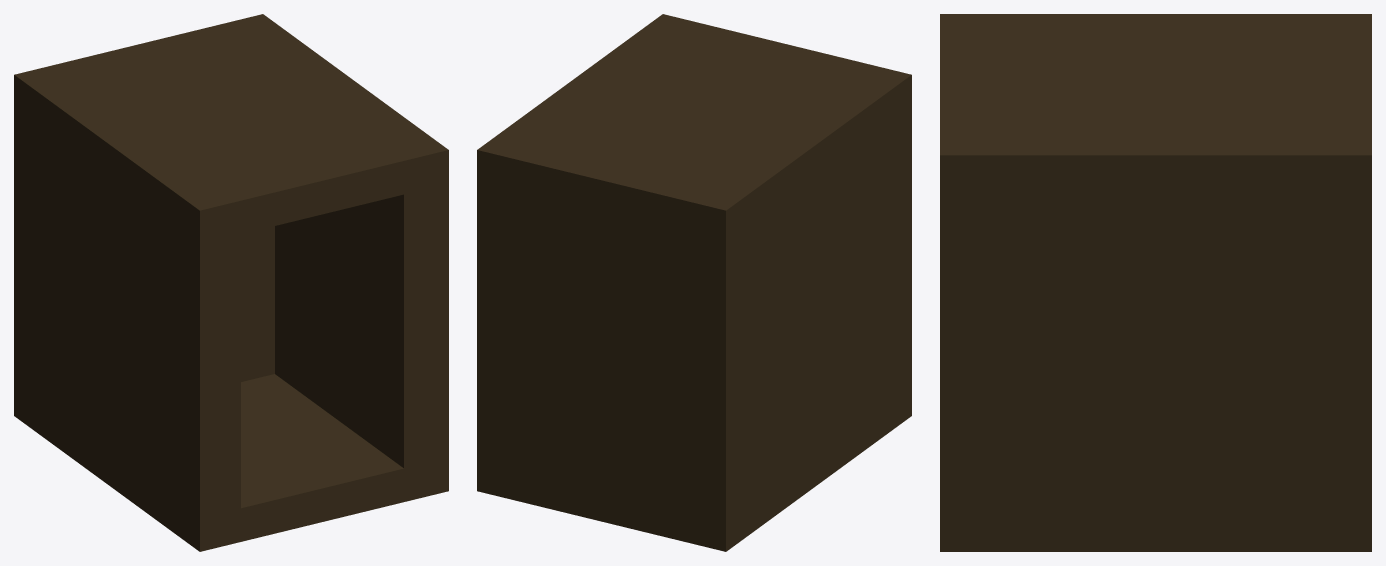
Rendered from Itr_Desk_Cabinet_Body_02.FBX.
3 views of the same model, side by side, from view 1: azimuth 30°, elevation 25°; view 2: azimuth 150°, elevation 25°; view 3: azimuth 270°, elevation 25° (orthographic). The views are drawn at different scales.
Visible parts, largest first — view 1: Itr_Desk_Cabinet_Body_02; view 2: Itr_Desk_Cabinet_Body_02; view 3: Itr_Desk_Cabinet_Body_02.
Part boxes in pixels (x1,y1,x2,y2): Itr_Desk_Cabinet_Body_02: (14, 14, 448, 551); Itr_Desk_Cabinet_Body_02: (477, 14, 911, 551); Itr_Desk_Cabinet_Body_02: (940, 14, 1371, 551).
Size of the model in its own units: 18.22 by 23.87 by 23.55.
